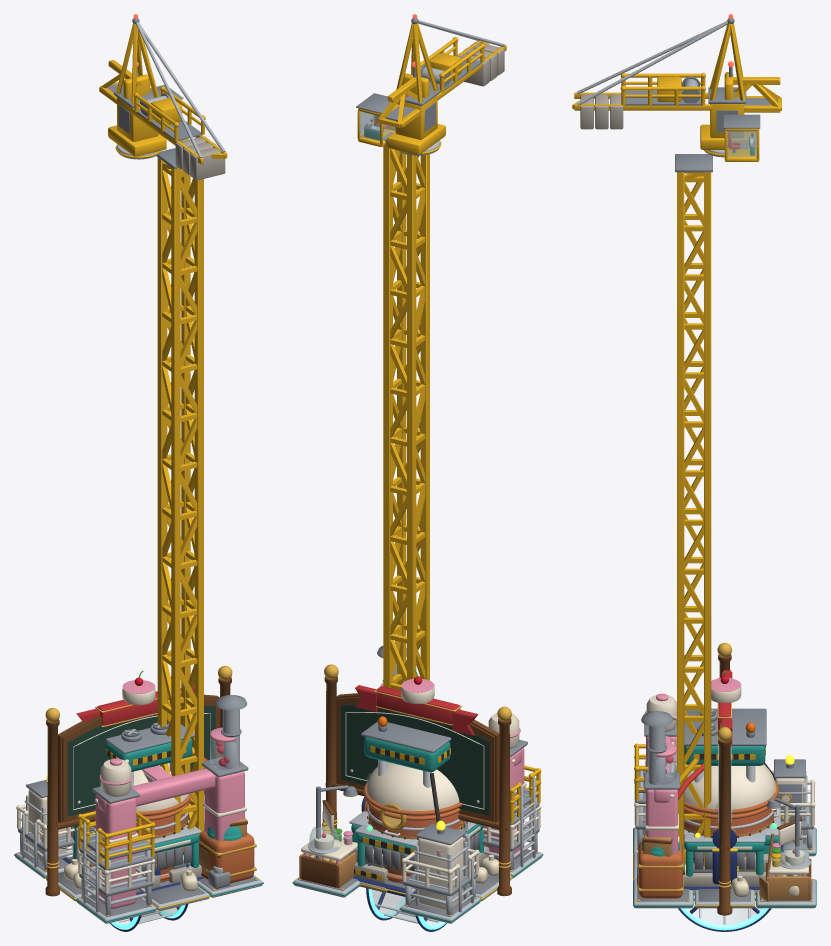
Rendered from buildings.glb.
The picture shows the model from 3 angles, left to right: view 1: azimuth 30°, elevation 25°; view 2: azimuth 150°, elevation 25°; view 3: azimuth 270°, elevation 25°; orthographic projection.
Parts seen in each view (by area): view 1: crane_base, comp_base, cake_sign, deco_base, crane_top, oven_base, store_base, wheel_rotor, crane_jib_bay; view 2: crane_base, cake_sign, comp_base, crane_top, oven_base, deco_base, store_base, wheel_rotor, crane_jib_bay; view 3: crane_base, comp_base, crane_top, oven_base, deco_base, cake_sign, store_base, wheel_rotor, crane_jib_bay, wheel_base.
Part boxes in pixels (x1,y1,x2,y2): crane_base: (76,148,203,892); comp_base: (14,722,263,923); cake_sign: (45,665,232,896); deco_base: (16,727,248,909); crane_top: (108,14,227,180); oven_base: (24,695,256,914); store_base: (45,811,247,914); wheel_rotor: (110,852,188,931); crane_jib_bay: (99,60,141,103); crane_base: (349,144,489,892); cake_sign: (324,664,511,896); comp_base: (292,716,543,923); crane_top: (356,14,506,155); oven_base: (310,646,541,905); deco_base: (301,683,527,915); store_base: (316,765,541,900); wheel_rotor: (366,864,446,931); crane_jib_bay: (378,78,420,128); crane_base: (675,154,770,895); comp_base: (633,708,816,908); crane_top: (572,14,760,161); oven_base: (634,711,807,901); deco_base: (644,693,815,876); cake_sign: (711,642,741,915); store_base: (633,743,802,908); wheel_rotor: (678,895,771,931); crane_jib_bay: (724,77,781,112); wheel_base: (683,802,783,890).
Bounding box in the file's own units: 3.48 × 16.27 × 3.97.
